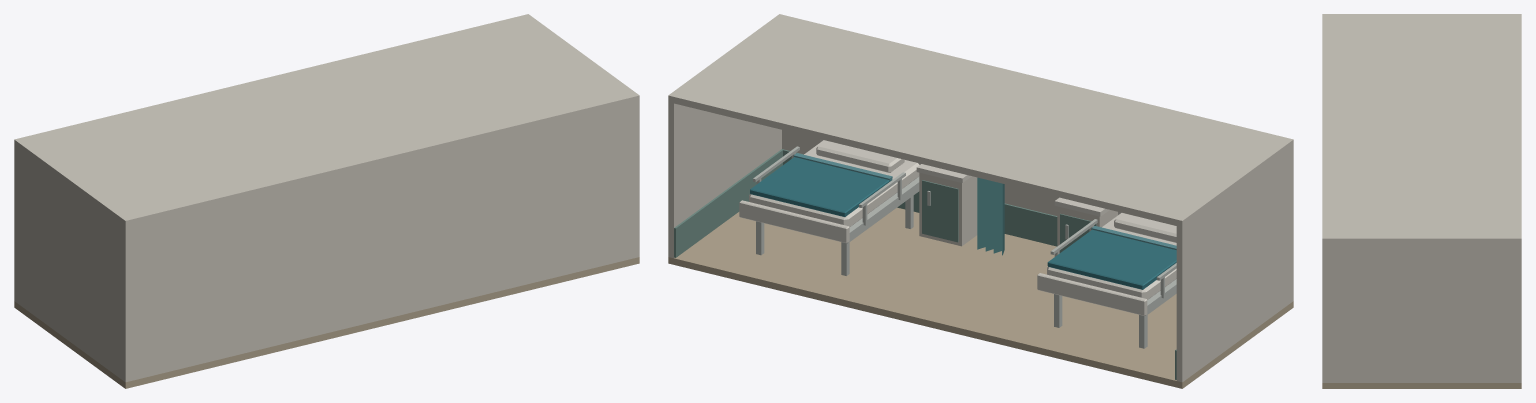
Rendered from hospital_room.glb.
3 renders of one model, left to right at view 1: azimuth 30°, elevation 25°; view 2: azimuth 150°, elevation 25°; view 3: azimuth 270°, elevation 25°, orthographic. The views are drawn at different scales.
Visible parts, largest first — view 1: Shell; view 2: Shell, BedRight, BedLeft, CabinetRight, Curtain, CabinetLeft; view 3: Shell.
Boxes of the visible parts, x1,y1,x2,y2 form: Shell: [14, 14, 639, 388]; Shell: [668, 14, 1293, 388]; BedRight: [739, 139, 920, 275]; BedLeft: [1037, 212, 1176, 348]; CabinetRight: [916, 164, 977, 246]; Curtain: [977, 177, 1004, 255]; CabinetLeft: [1054, 197, 1117, 253]; Shell: [1322, 14, 1521, 388].
Size of the model in its own units: 8.2 by 2.56 by 3.07.
